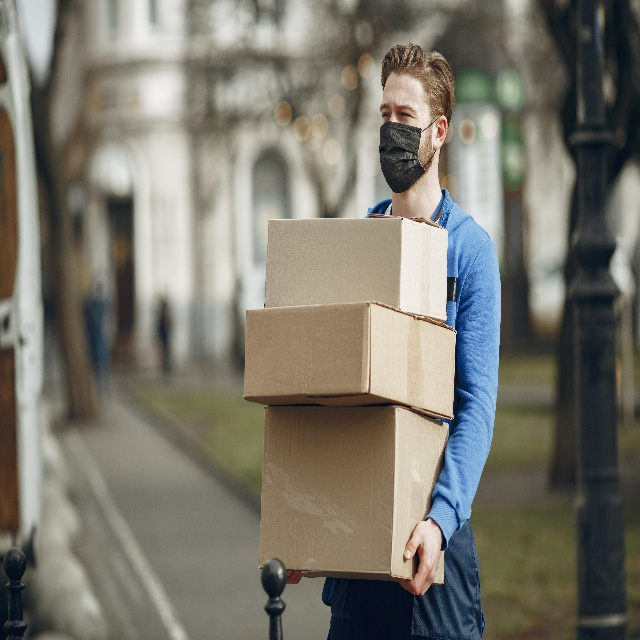Mascara: (379, 117, 439, 194)
Sin_guantes: (397, 520, 444, 597), (286, 569, 302, 584)
